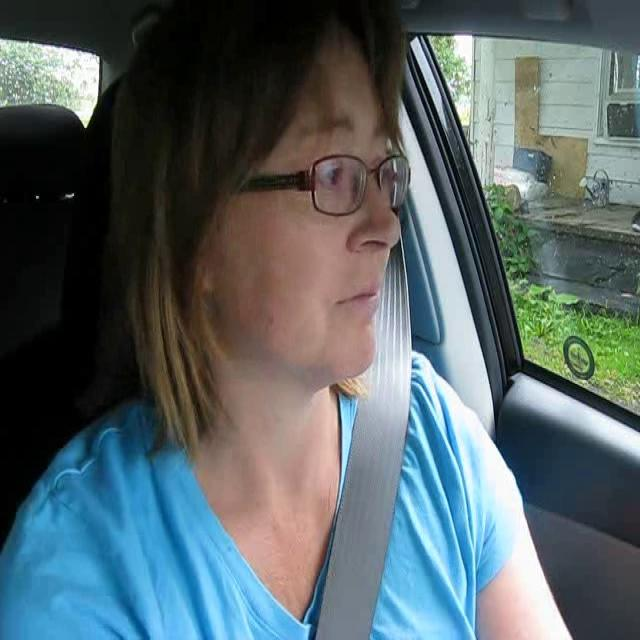close: (331, 278, 383, 320)
